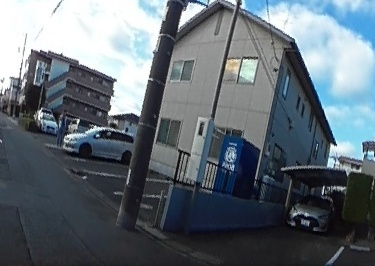person: (56, 108, 67, 147)
